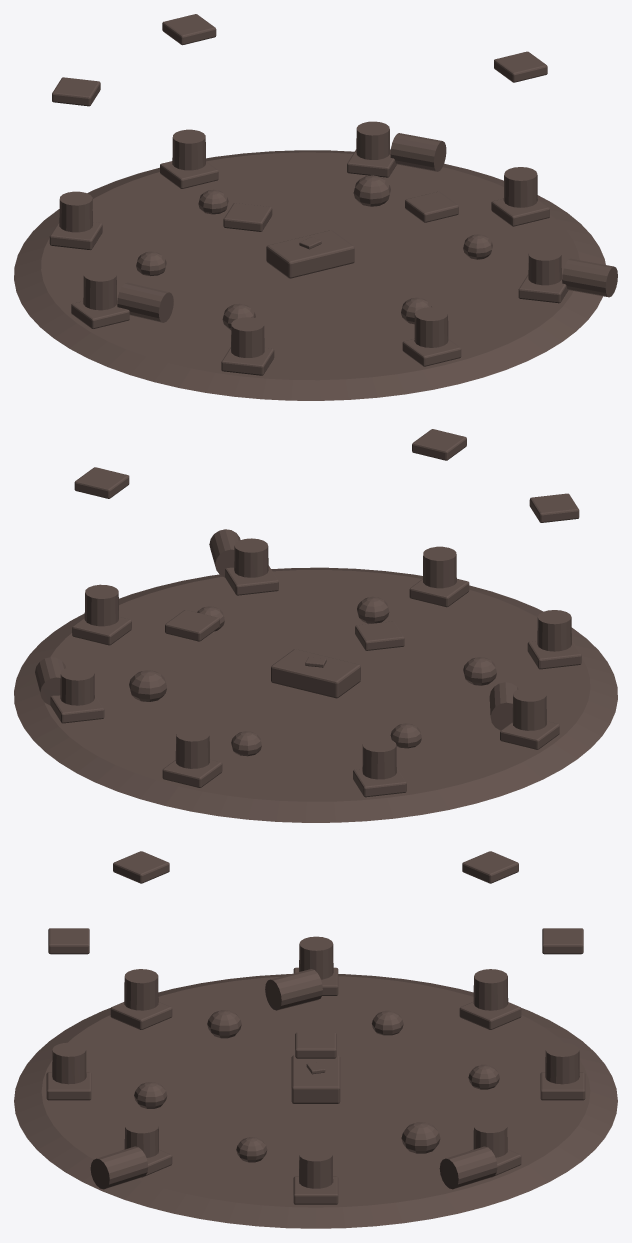
File: ruins.ol.glb
3 renders of one model, top to bottom at view 1: azimuth 30°, elevation 25°; view 2: azimuth 150°, elevation 25°; view 3: azimuth 270°, elevation 25°, orthographic.
Visible parts, largest first — view 1: outline; view 2: outline; view 3: outline.
Boxes of the visible parts, x1,y1,x2,y2 form: outline: [14, 14, 617, 400]; outline: [14, 429, 617, 822]; outline: [14, 851, 617, 1228].
Bounding box in the file's own units: 33.02 × 9.95 × 33.02.
